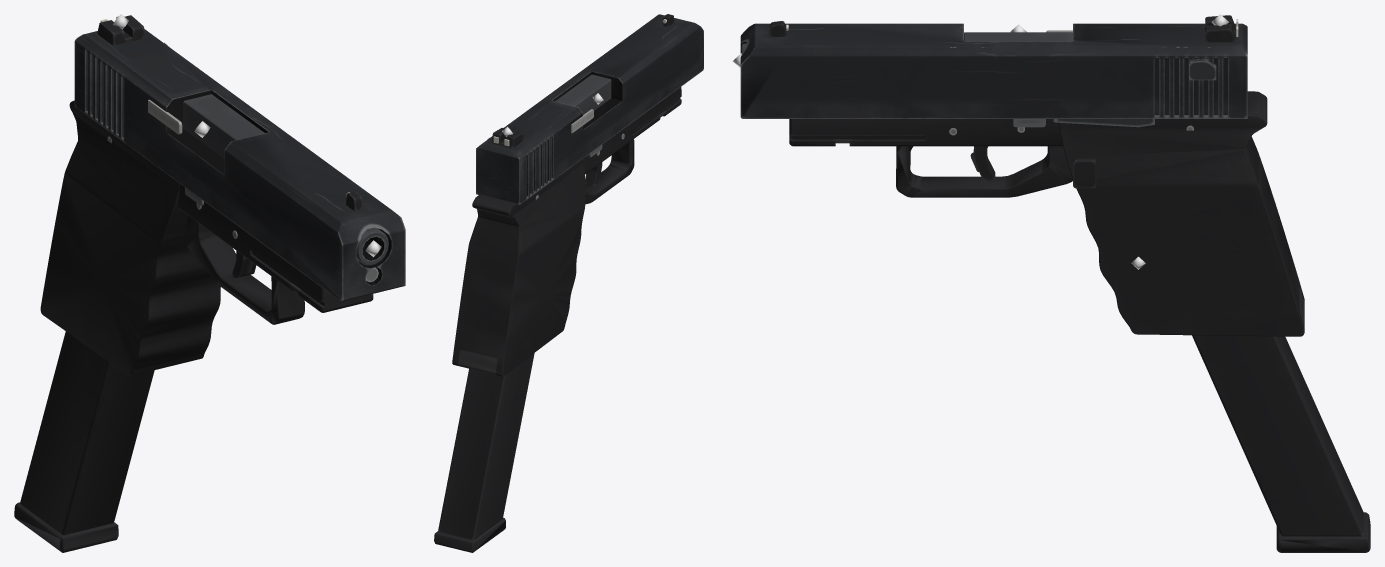
Rendered from LightPistol_B_Glock18.fbx.
The picture shows the model from 3 angles, left to right: view 1: azimuth 30°, elevation 25°; view 2: azimuth 150°, elevation 25°; view 3: azimuth 270°, elevation 25°; orthographic projection. The views are drawn at different scales.
Parts seen in each view (by area): view 1: Handle, Slide, Magazine; view 2: Handle, Slide, Magazine; view 3: Handle, Slide, Magazine.
Part boxes in pixels (x1,y1,x2,y2): Handle: (40, 94, 388, 375); Slide: (74, 15, 405, 301); Magazine: (14, 331, 154, 552); Handle: (452, 74, 681, 376); Slide: (476, 14, 703, 204); Magazine: (434, 353, 534, 552); Handle: (741, 32, 1304, 336); Slide: (740, 15, 1247, 118); Magazine: (1192, 335, 1370, 552).
Bounding box in the file's own units: 0.1156 × 0.773 × 0.8485.
Materials: 2 (1 with a texture image).
